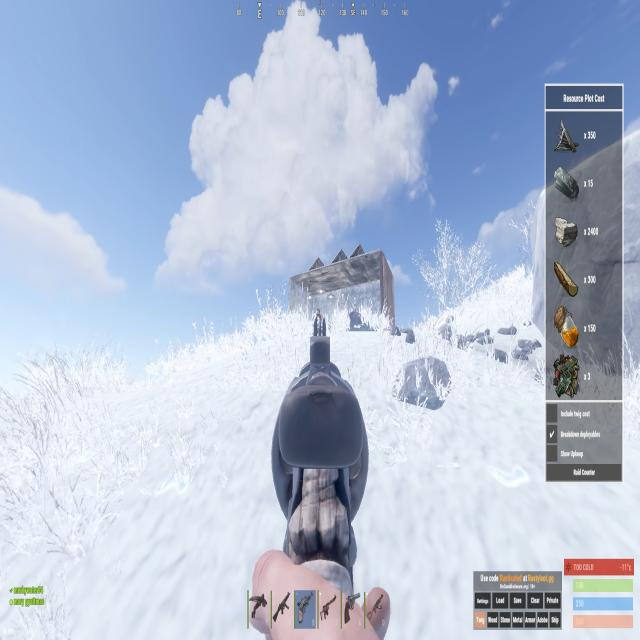Player: (314, 309, 324, 322)
